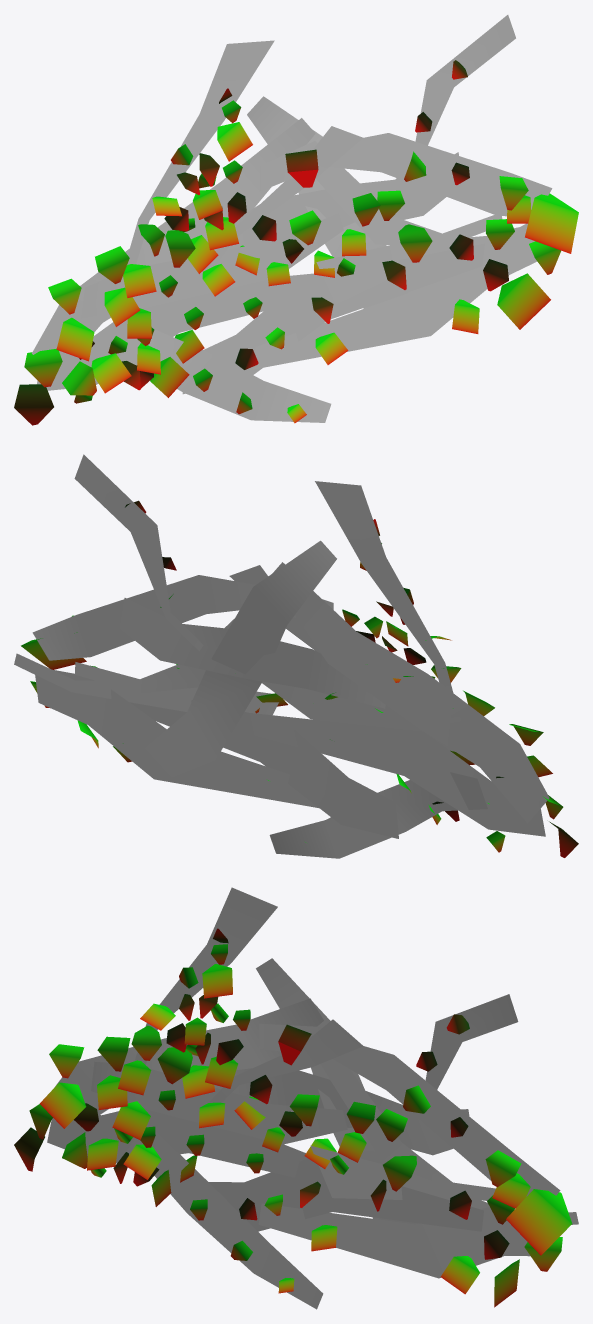
The model's file is Var5_LOD2.fbx.
3 views of the same model, one above another, from view 1: azimuth 30°, elevation 25°; view 2: azimuth 150°, elevation 25°; view 3: azimuth 330°, elevation 25° (orthographic).
Parts seen in each view (by area): view 1: _b03f_Var5_LOD2; view 2: _b03f_Var5_LOD2; view 3: _b03f_Var5_LOD2.
Boxes of the visible parts, x1=… form: _b03f_Var5_LOD2: x1=14, y1=15, x2=578, y2=425; _b03f_Var5_LOD2: x1=14, y1=454, x2=578, y2=858; _b03f_Var5_LOD2: x1=14, y1=887, x2=578, y2=1309.
Bounding box in the file's own units: 83.79 × 56.45 × 6.58.
